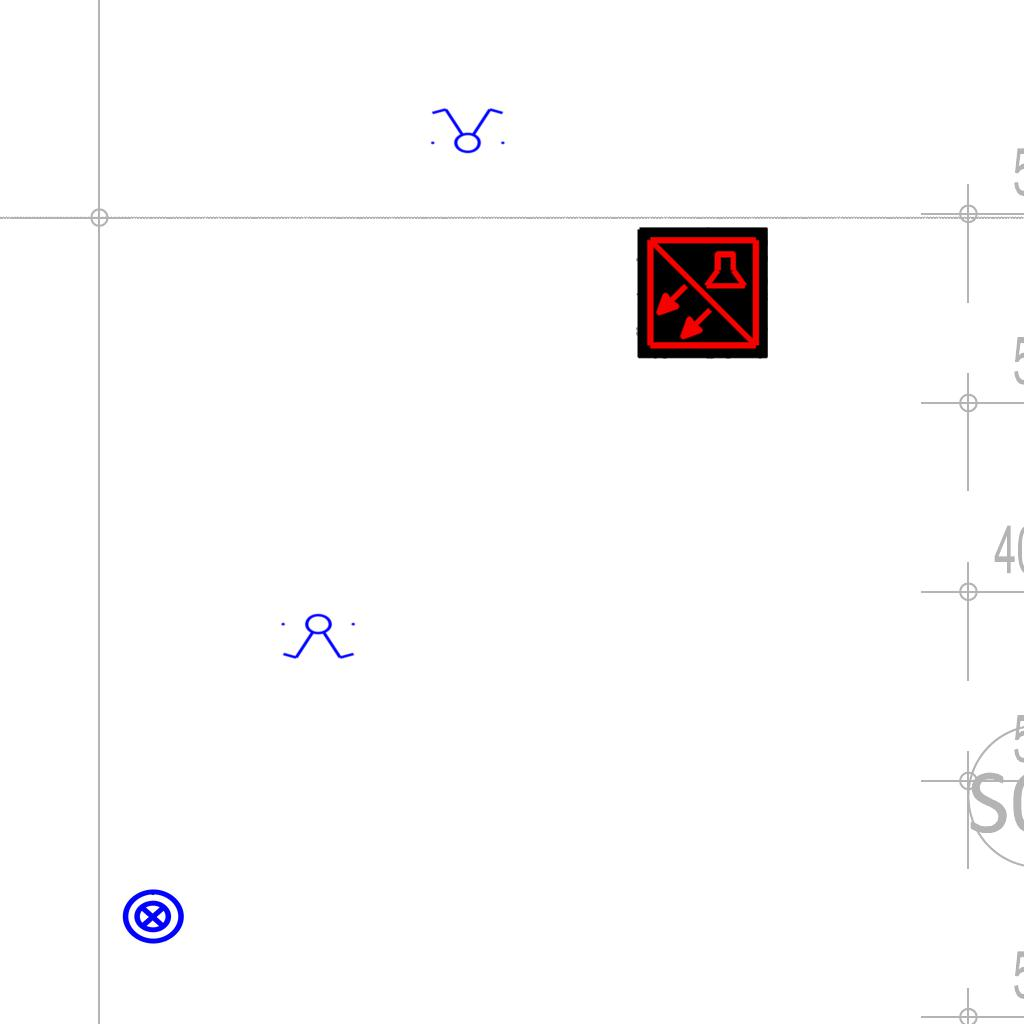OKW_Multisensormelder_(Kombination_optischer_Rauch-Kahlenmonoxid_Waerme-Melder): (636, 227, 768, 359)
Serienschalter: (277, 613, 361, 661), (425, 106, 509, 154)
Taster_beleuchtet: (120, 884, 186, 950)
